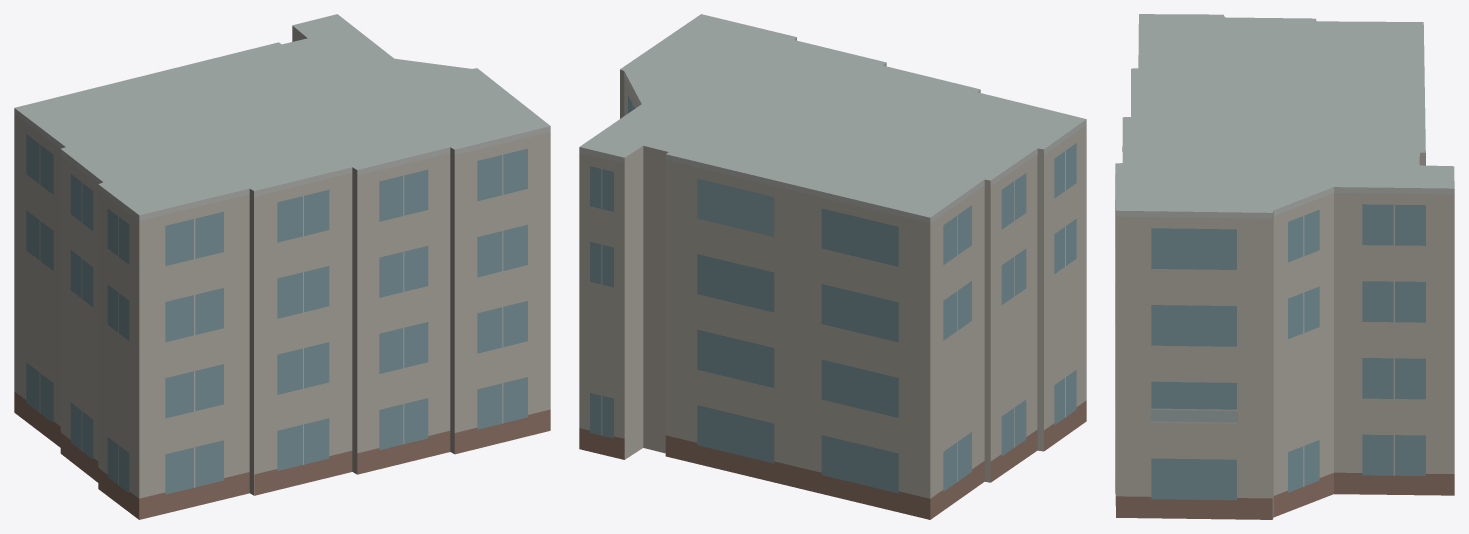
File: survey-upis-32983431.glb
The picture shows the model from 3 angles, left to right: view 1: azimuth 30°, elevation 25°; view 2: azimuth 150°, elevation 25°; view 3: azimuth 270°, elevation 25°; orthographic projection.
Parts seen in each view (by area): view 1: survey-upis-32983431.tmp; view 2: survey-upis-32983431.tmp; view 3: survey-upis-32983431.tmp.
Part boxes in pixels (left/top/right/bottom): survey-upis-32983431.tmp: left=14, top=14, right=550, bottom=519; survey-upis-32983431.tmp: left=579, top=14, right=1086, bottom=519; survey-upis-32983431.tmp: left=1115, top=14, right=1454, bottom=519.
Size of the model in its own units: 17.76 by 12.78 by 12.81.
